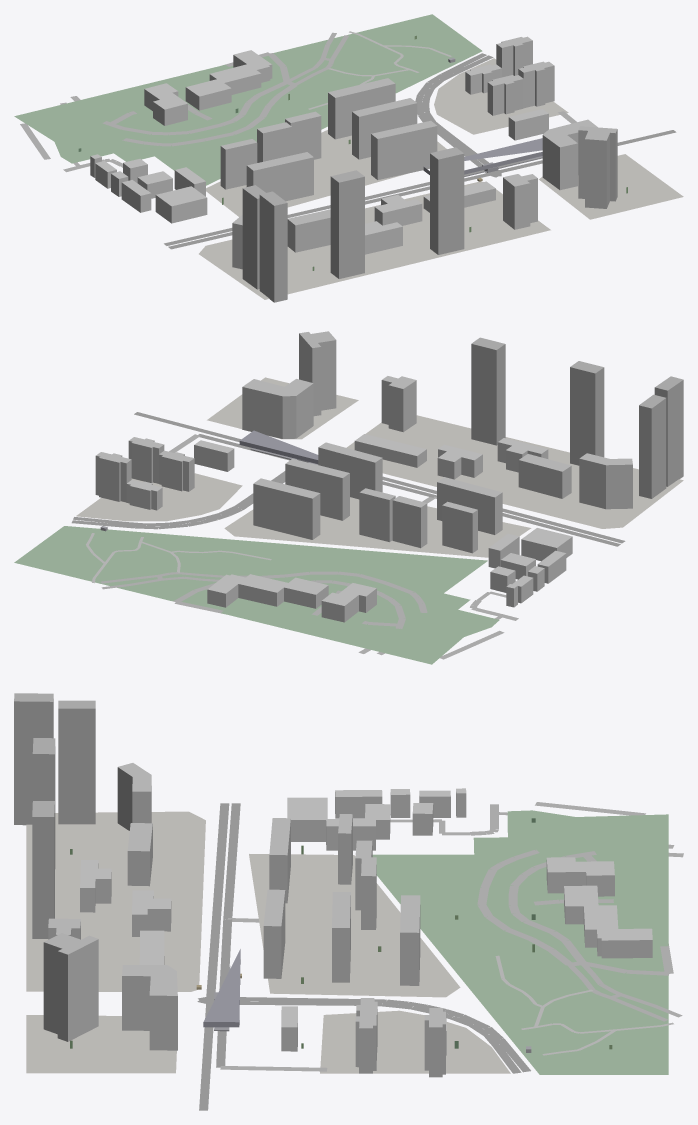
3 views of the same model, one above another, from view 1: azimuth 30°, elevation 25°; view 2: azimuth 150°, elevation 25°; view 3: azimuth 270°, elevation 25° (orthographic). The views are drawn at different scales.
Bounding box in the file's own units: 574 × 107 × 522.
